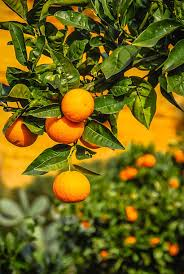orange: (52, 168, 95, 204), (62, 87, 96, 125), (8, 109, 39, 148)
